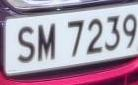2: (86, 14, 106, 61)
3: (105, 13, 123, 56)
7: (65, 16, 87, 64)
9: (122, 10, 138, 53)
M: (36, 19, 59, 68)
S: (16, 21, 37, 71)
